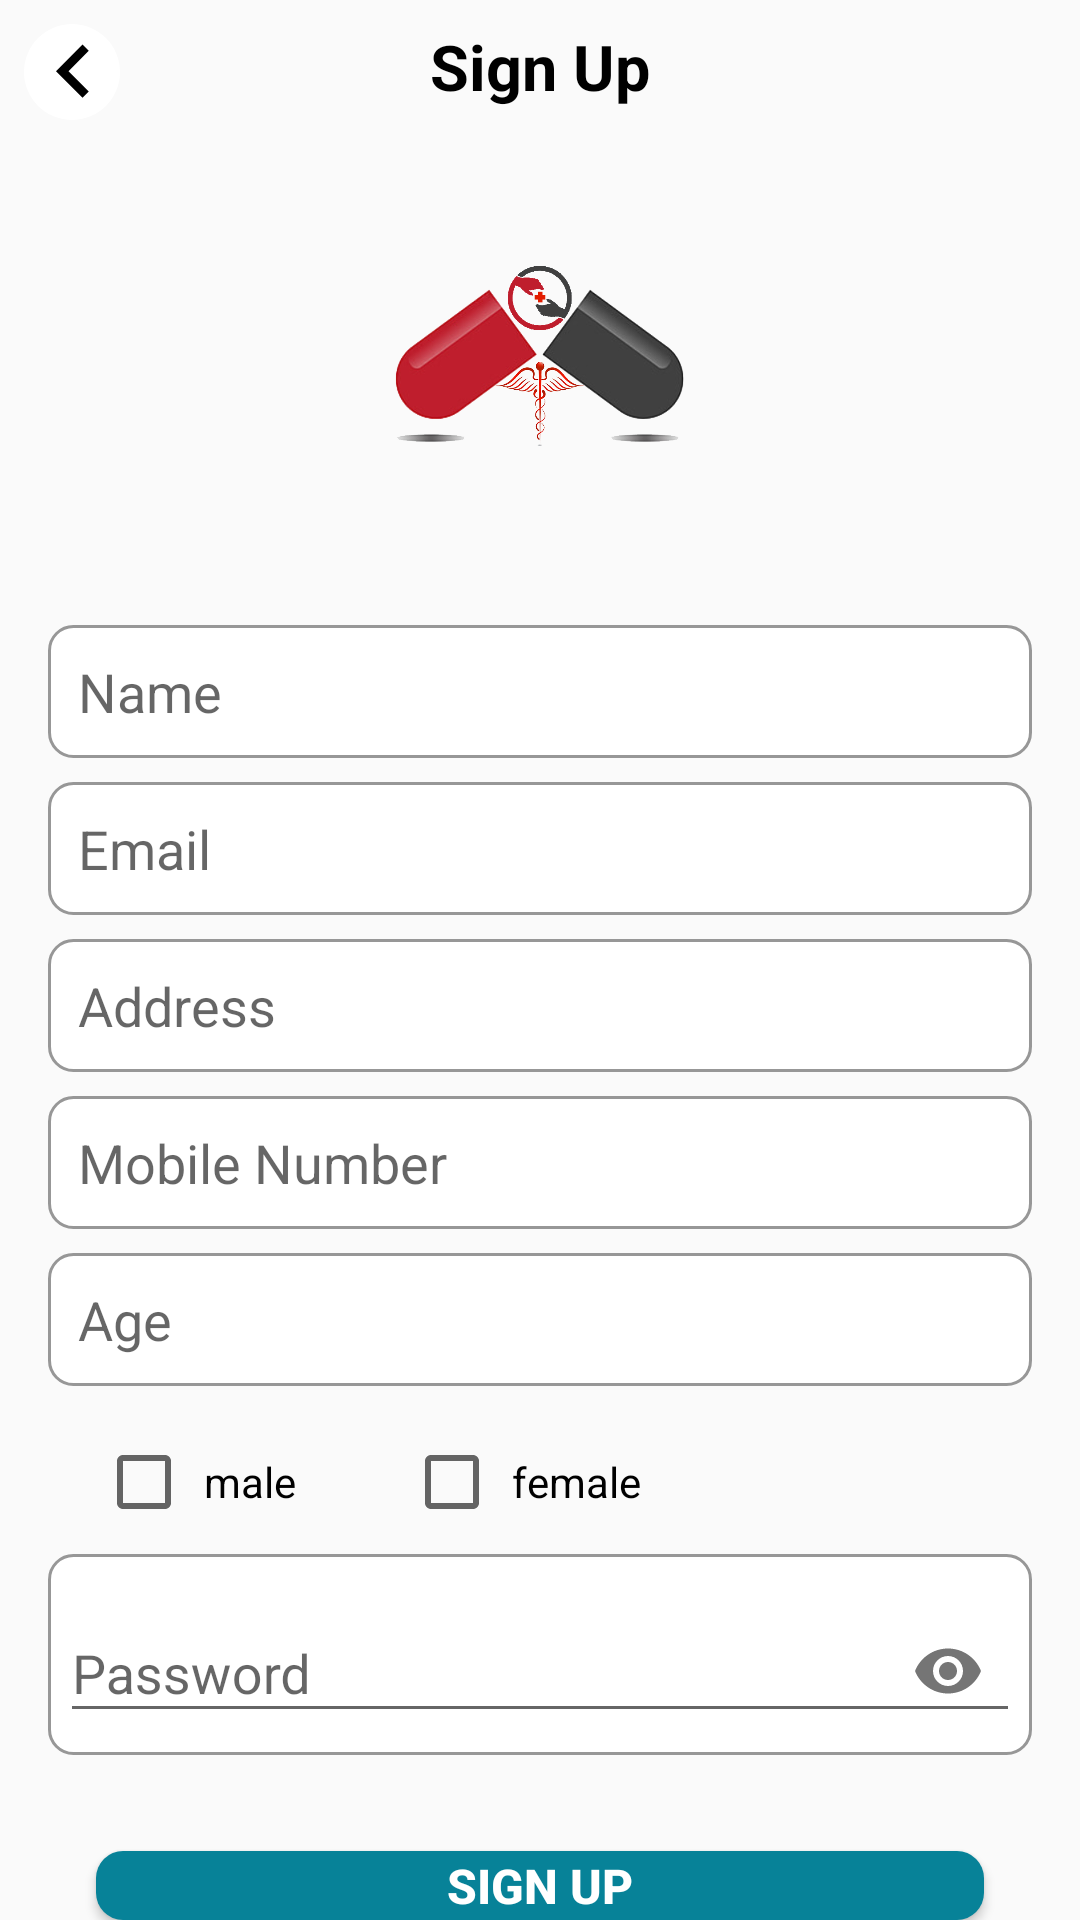

Named icons in this screenshot (1080px×1920px) and their centers, point (x, y):
back: point (72, 71)
